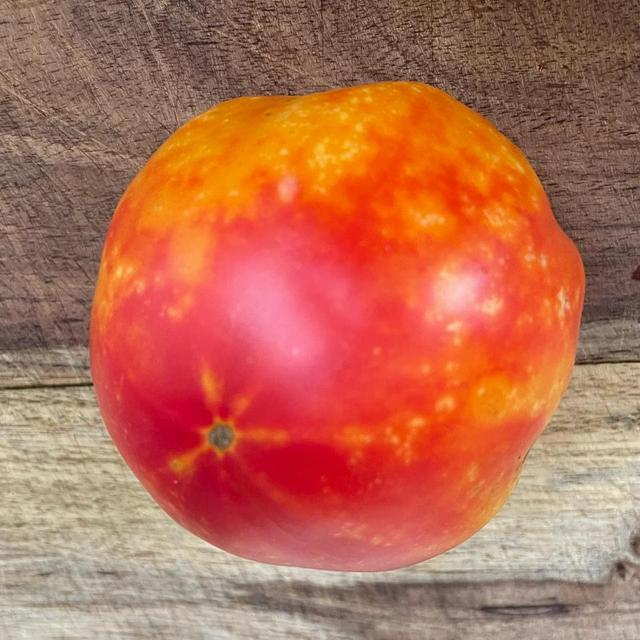Spotted wilt Virus Fruit: (58, 53, 390, 384)
